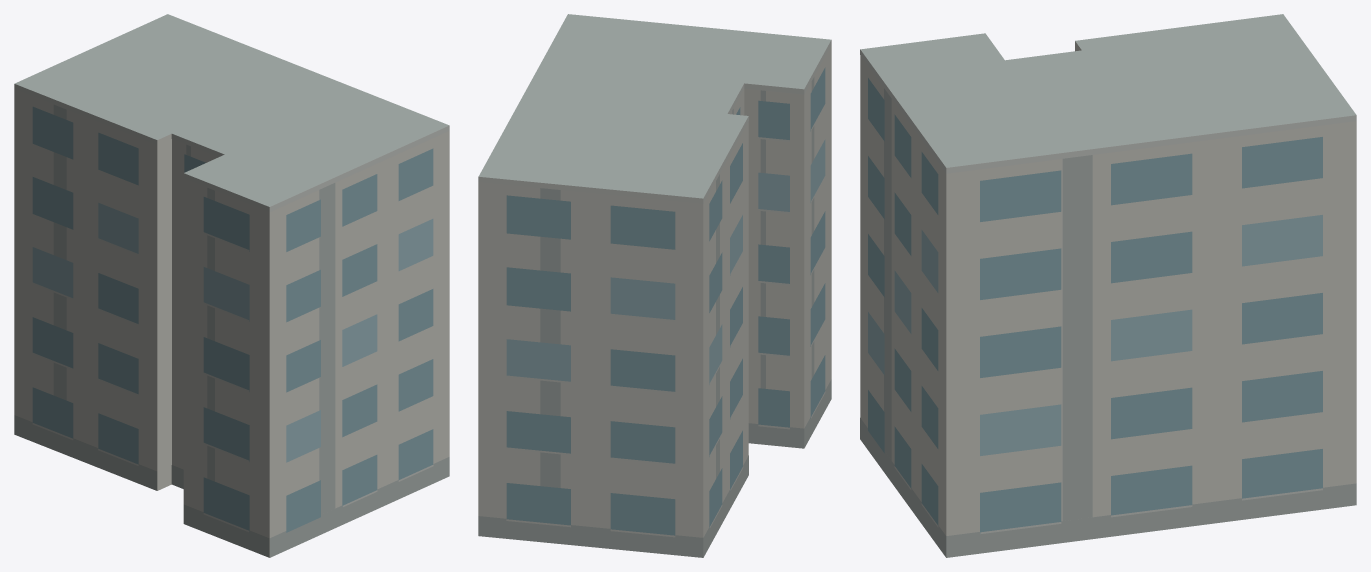
Rendered from survey-upis-32763692.glb.
The picture shows the model from 3 angles, left to right: view 1: azimuth 30°, elevation 25°; view 2: azimuth 150°, elevation 25°; view 3: azimuth 270°, elevation 25°; orthographic projection. The views are drawn at different scales.
Parts seen in each view (by area): view 1: survey-upis-32763692.tmp; view 2: survey-upis-32763692.tmp; view 3: survey-upis-32763692.tmp.
Boxes of the visible parts, x1,y1,x2,y2 form: survey-upis-32763692.tmp: (14, 14, 449, 557); survey-upis-32763692.tmp: (478, 14, 831, 557); survey-upis-32763692.tmp: (860, 14, 1356, 557).
Bounding box in the file's own units: 13.85 × 16.35 × 18.87.
